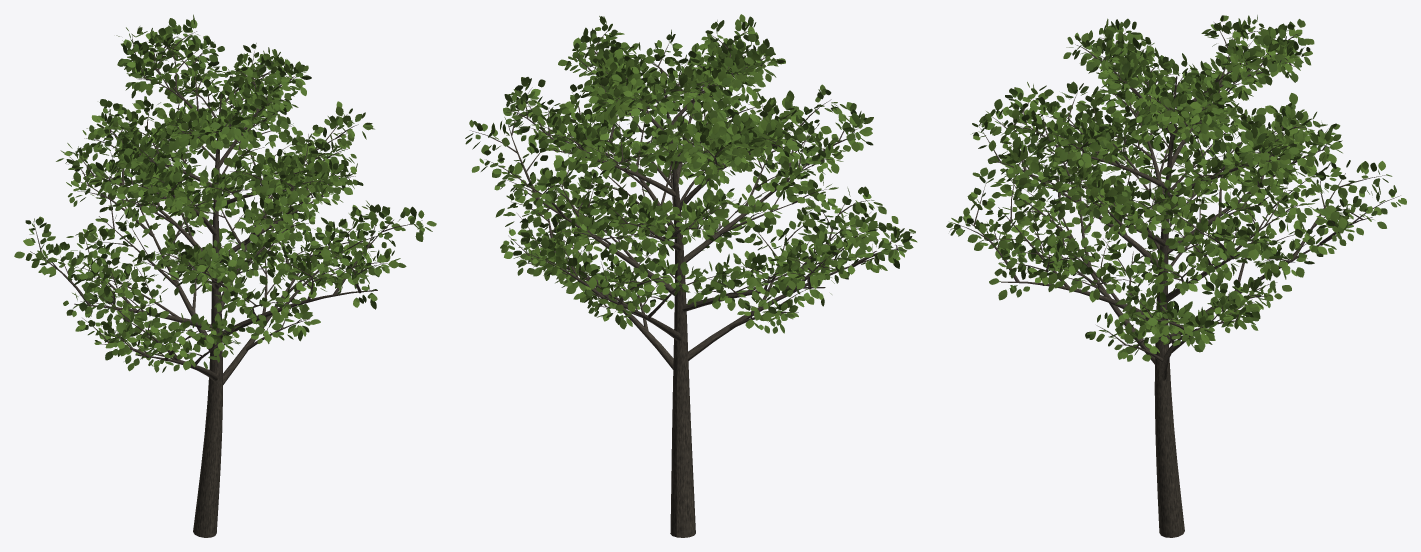
File: spreading_03_lod0.glb
The picture shows the model from 3 angles, left to right: view 1: azimuth 30°, elevation 25°; view 2: azimuth 150°, elevation 25°; view 3: azimuth 270°, elevation 25°; orthographic projection. The views are drawn at different scales.
Parts seen in each view (by area): view 1: individual_folded_leaves, trunk_branches; view 2: individual_folded_leaves, trunk_branches; view 3: individual_folded_leaves, trunk_branches.
Boxes of the visible parts, x1,y1,x2,y2 form: individual_folded_leaves: [14, 14, 436, 372]; trunk_branches: [30, 31, 422, 537]; individual_folded_leaves: [465, 14, 917, 333]; trunk_branches: [470, 30, 906, 537]; individual_folded_leaves: [946, 15, 1406, 361]; trunk_branches: [953, 22, 1400, 537].
Size of the model in its own units: 7.64 by 10.08 by 8.16.
Materials: 2 (1 with a texture image).
